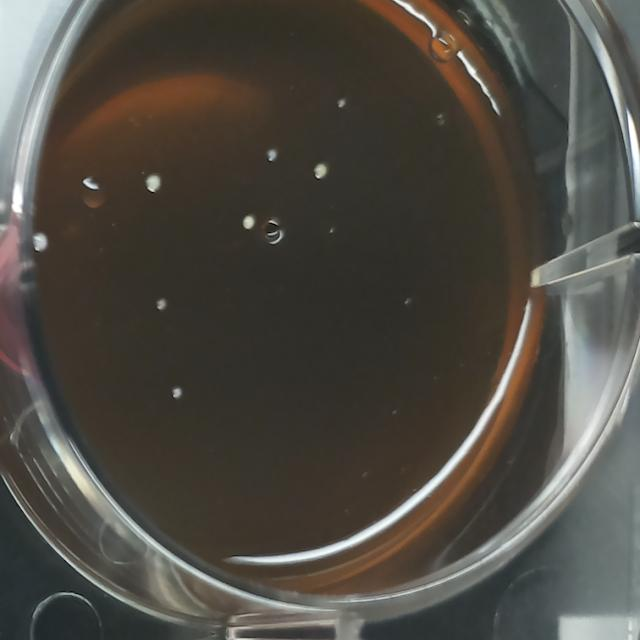Staphylococcus: (30, 229, 53, 258), (143, 169, 163, 195), (312, 160, 331, 183), (153, 294, 170, 315), (240, 212, 257, 233), (264, 145, 279, 165), (335, 93, 350, 112), (170, 383, 184, 402)
Vibrio: (76, 171, 110, 215)
